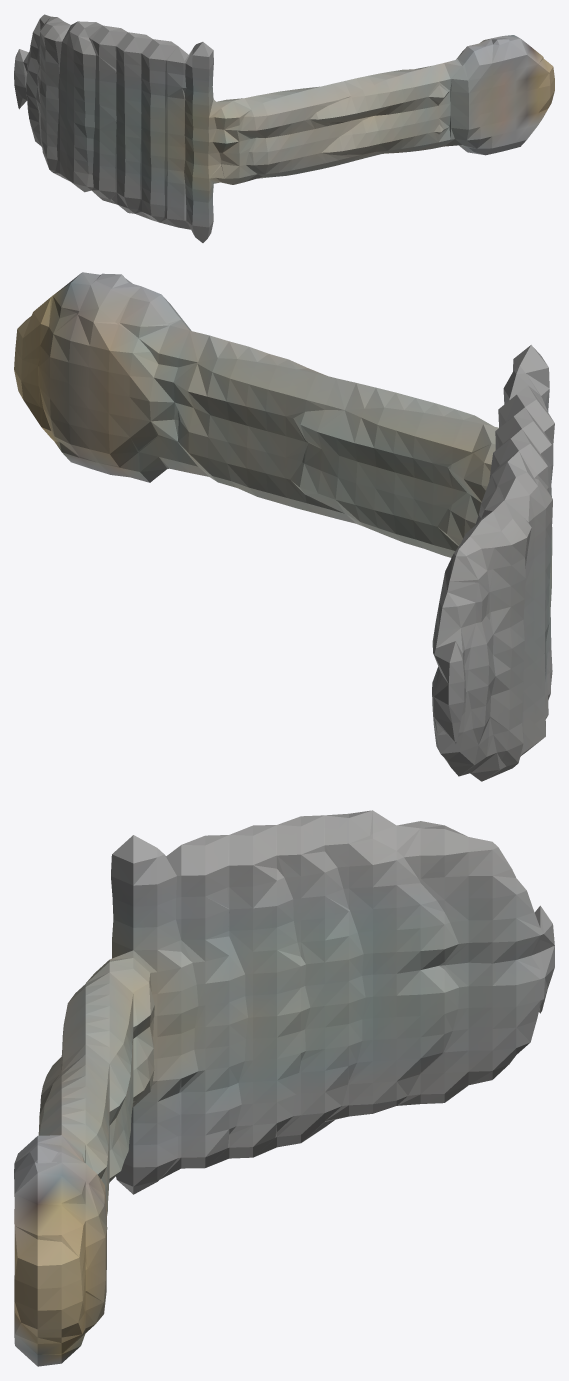
Rendered from triposr_p5_synthetic_tower.glb.
3 renders of one model, top to bottom at view 1: azimuth 30°, elevation 25°; view 2: azimuth 150°, elevation 25°; view 3: azimuth 270°, elevation 25°, orthographic. The views are drawn at different scales.
Visible parts, largest first — view 1: world; view 2: world; view 3: world.
Part boxes in pixels (bbox=[...]): world: bbox=[14, 14, 554, 242]; world: bbox=[14, 272, 554, 781]; world: bbox=[14, 810, 554, 1366].
Size of the model in its own units: 0.9582 by 0.4582 by 0.6242.
